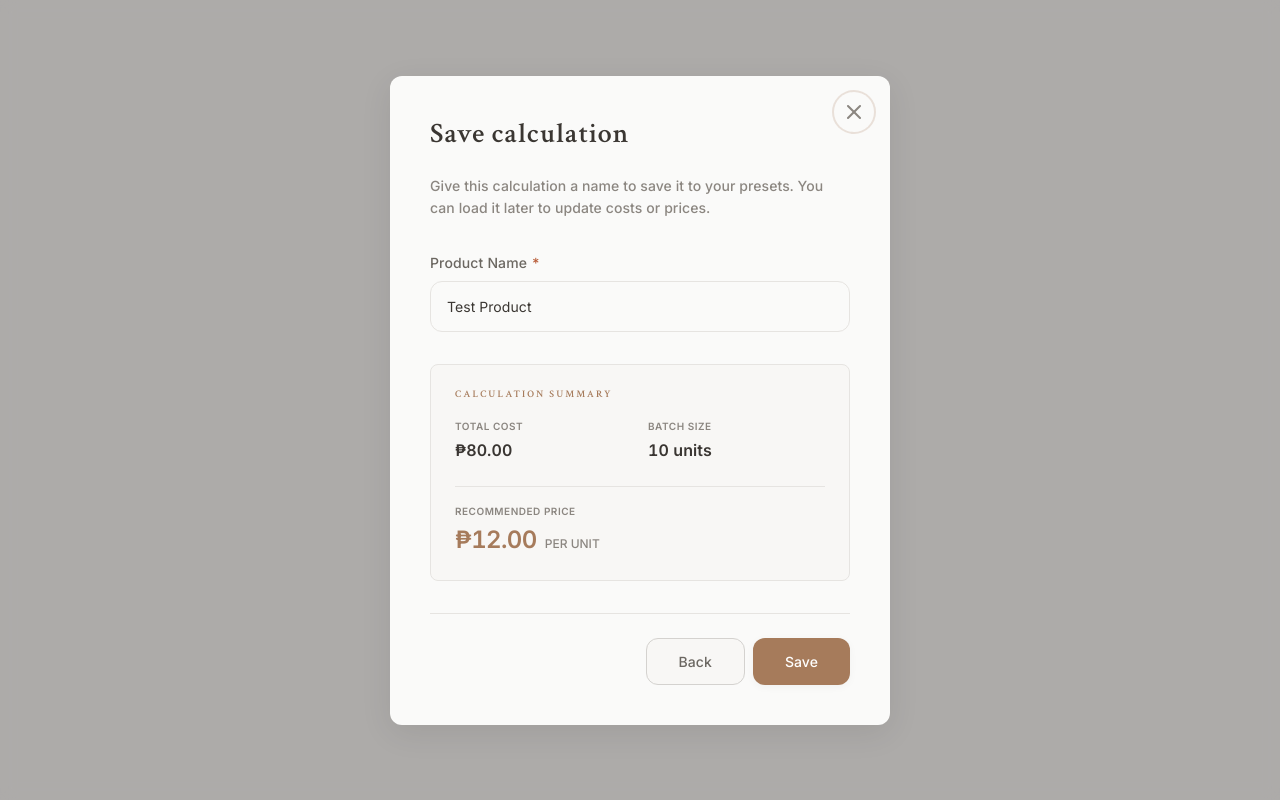
SavePresetModal › saves successfully and shows success message
Note: We need to wrap the click and the advancement of timers in act
What coordinates should you click on to do the following:
click the button "Save"
I would click on:
 (801, 661)
Its box is x1=753 y1=638 x2=850 y2=684.
Wait 2100 ms
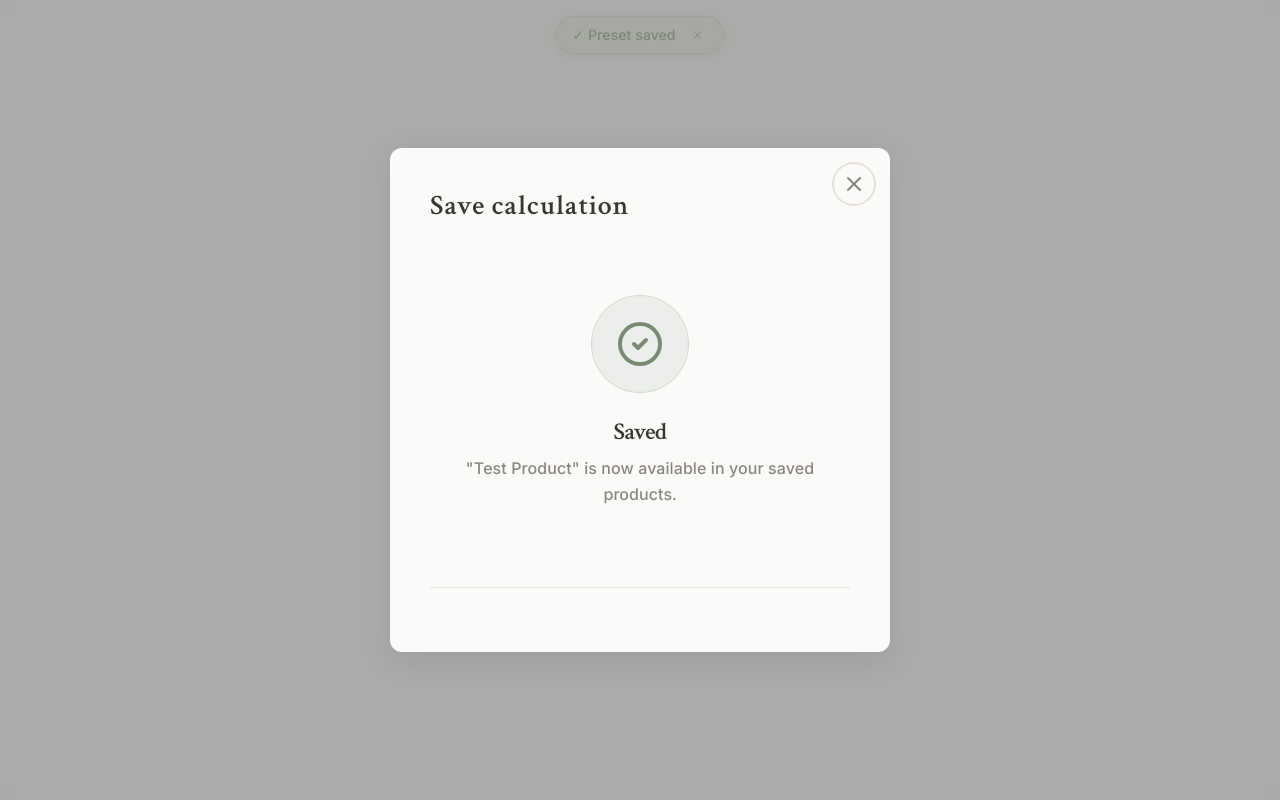
Check: the heading "Saved" is shown, box x1=614 y1=417 x2=666 y2=447
Check: the text "✓ Preset saved" is shown, box x1=572 y1=25 x2=676 y2=45
